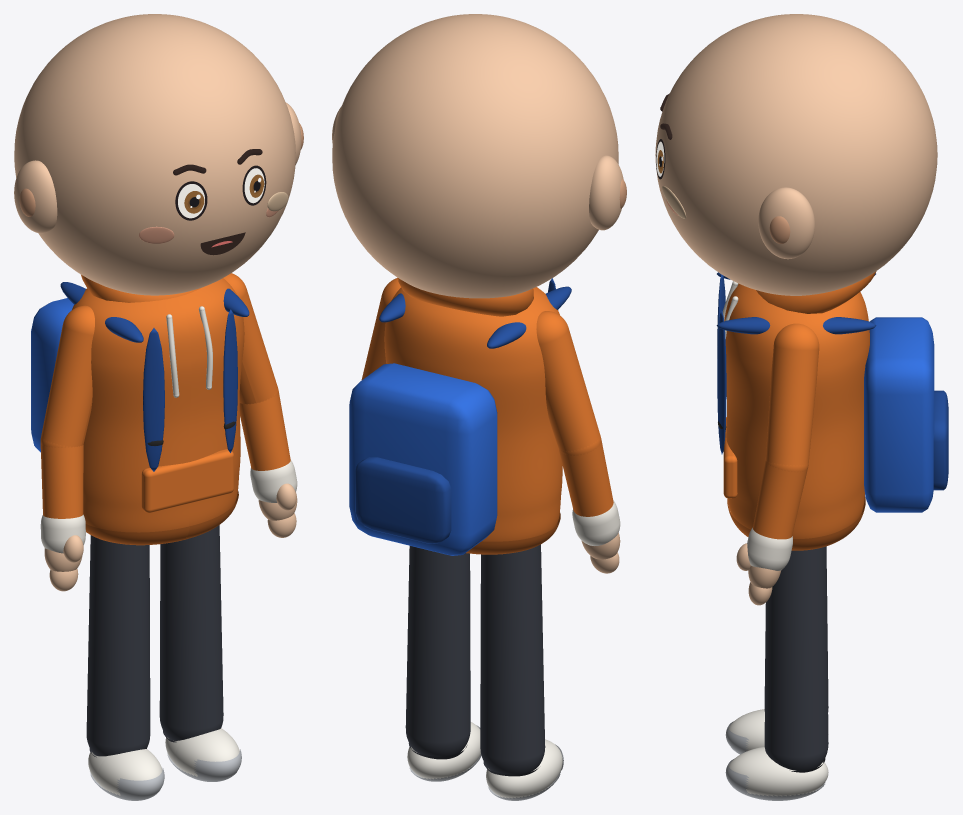
Rendered from hoofdpersonage_pleister.glb.
3 views of the same model, side by side, from view 1: azimuth 30°, elevation 25°; view 2: azimuth 150°, elevation 25°; view 3: azimuth 270°, elevation 25° (orthographic).
Parts seen in each view (by area): view 1: hoofdpersonage_pleister_hoofd, hoofdpersonage_pleister_romp, hoofdpersonage_pleister_been_R, hoofdpersonage_pleister_been_L, hoofdpersonage_pleister_bovenarm_R, hoofdpersonage_pleister_buidelzak, hoofdpersonage_pleister_rugzak, hoofdpersonage_pleister_onderarm_R, hoofdpersonage_pleister_onderarm_L, hoofdpersonage_pleister_bovenarm_L, hoofdpersonage_pleister_rugzak_band_R, hoofdpersonage_pleister_oor_R (+12 smaller); view 2: hoofdpersonage_pleister_hoofd, hoofdpersonage_pleister_romp, hoofdpersonage_pleister_rugzak, hoofdpersonage_pleister_been_R, hoofdpersonage_pleister_been_L, hoofdpersonage_pleister_rugzak_vak, hoofdpersonage_pleister_bovenarm_R, hoofdpersonage_pleister_onderarm_R, hoofdpersonage_pleister_oor_R, hoofdpersonage_pleister_capuchon, hoofdpersonage_pleister_schoen_R, hoofdpersonage_pleister_schoen_L (+5 smaller); view 3: hoofdpersonage_pleister_hoofd, hoofdpersonage_pleister_romp, hoofdpersonage_pleister_rugzak, hoofdpersonage_pleister_been_L, hoofdpersonage_pleister_bovenarm_L, hoofdpersonage_pleister_onderarm_L, hoofdpersonage_pleister_schoen_L, hoofdpersonage_pleister_oor_L, hoofdpersonage_pleister_capuchon, hoofdpersonage_pleister_rugzak_vak, hoofdpersonage_pleister_rugzak_schouder_L, hoofdpersonage_pleister_manchet_L (+5 smaller).
Boxes of the visible parts, x1,y1,x2,y2 form: hoofdpersonage_pleister_hoofd: (14,14,295,295); hoofdpersonage_pleister_romp: (72,278,244,532); hoofdpersonage_pleister_been_R: (86,535,150,756); hoofdpersonage_pleister_been_L: (159,525,223,740); hoofdpersonage_pleister_bovenarm_R: (41,305,94,447); hoofdpersonage_pleister_buidelzak: (141,449,233,512); hoofdpersonage_pleister_rugzak: (31,298,73,452); hoofdpersonage_pleister_onderarm_R: (40,442,83,518); hoofdpersonage_pleister_onderarm_L: (239,391,290,470); hoofdpersonage_pleister_bovenarm_L: (223,273,277,404); hoofdpersonage_pleister_rugzak_band_R: (143,328,164,471); hoofdpersonage_pleister_oor_R: (14,160,57,233); hoofdpersonage_pleister_hoofd: (332,14,618,298); hoofdpersonage_pleister_romp: (384,287,562,541); hoofdpersonage_pleister_rugzak: (349,363,497,555); hoofdpersonage_pleister_been_R: (480,544,545,774); hoofdpersonage_pleister_been_L: (405,546,470,756); hoofdpersonage_pleister_rugzak_vak: (355,457,451,543); hoofdpersonage_pleister_bovenarm_R: (536,311,600,455); hoofdpersonage_pleister_onderarm_R: (559,438,613,516); hoofdpersonage_pleister_oor_R: (589,155,623,230); hoofdpersonage_pleister_capuchon: (398,278,533,316); hoofdpersonage_pleister_schoen_R: (486,739,562,798); hoofdpersonage_pleister_schoen_L: (407,722,480,779); hoofdpersonage_pleister_hoofd: (655,14,937,295); hoofdpersonage_pleister_romp: (724,283,869,538); hoofdpersonage_pleister_rugzak: (864,317,934,512); hoofdpersonage_pleister_been_L: (764,546,828,770); hoofdpersonage_pleister_bovenarm_L: (765,323,819,471); hoofdpersonage_pleister_onderarm_L: (753,461,807,539); hoofdpersonage_pleister_schoen_L: (728,747,828,796); hoofdpersonage_pleister_oor_L: (758,187,814,259); hoofdpersonage_pleister_capuchon: (756,271,876,313); hoofdpersonage_pleister_rugzak_vak: (933,390,948,490); hoofdpersonage_pleister_rugzak_schouder_L: (716,317,876,334); hoofdpersonage_pleister_manchet_L: (747,527,792,570).
Size of the model in its own units: 0.6887 by 1.76 by 0.6232.
